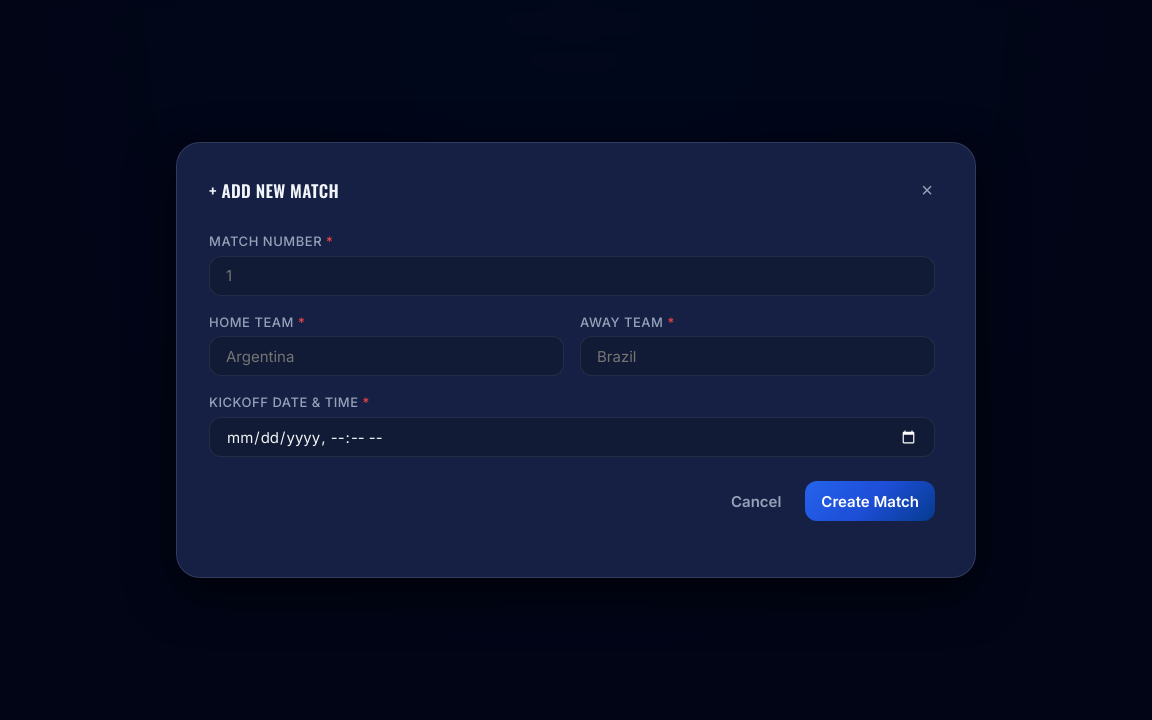
Scenario: AddMatchModal › shows validation error on incomplete submit
The width and height of the screenshot is (1152, 720).
Click the button "Create Match".
click(870, 501)  # box [805,481,935,521]
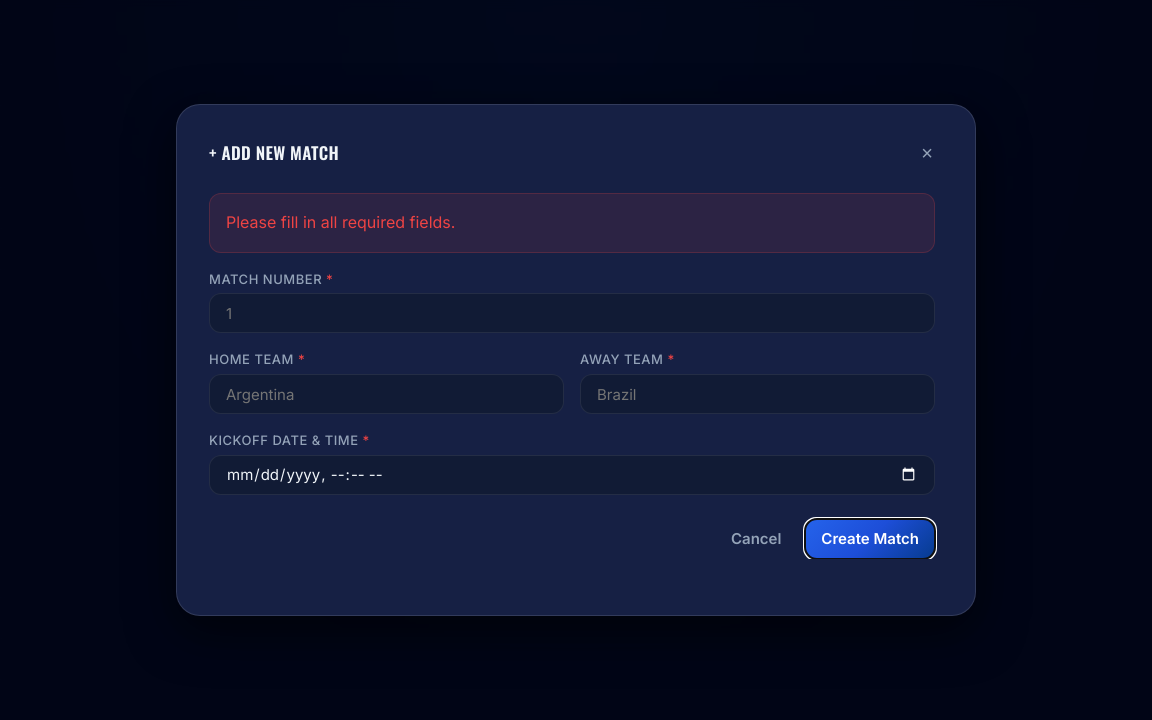
Result: the text "Please fill in all required fields." is shown at [209,193,935,253]
